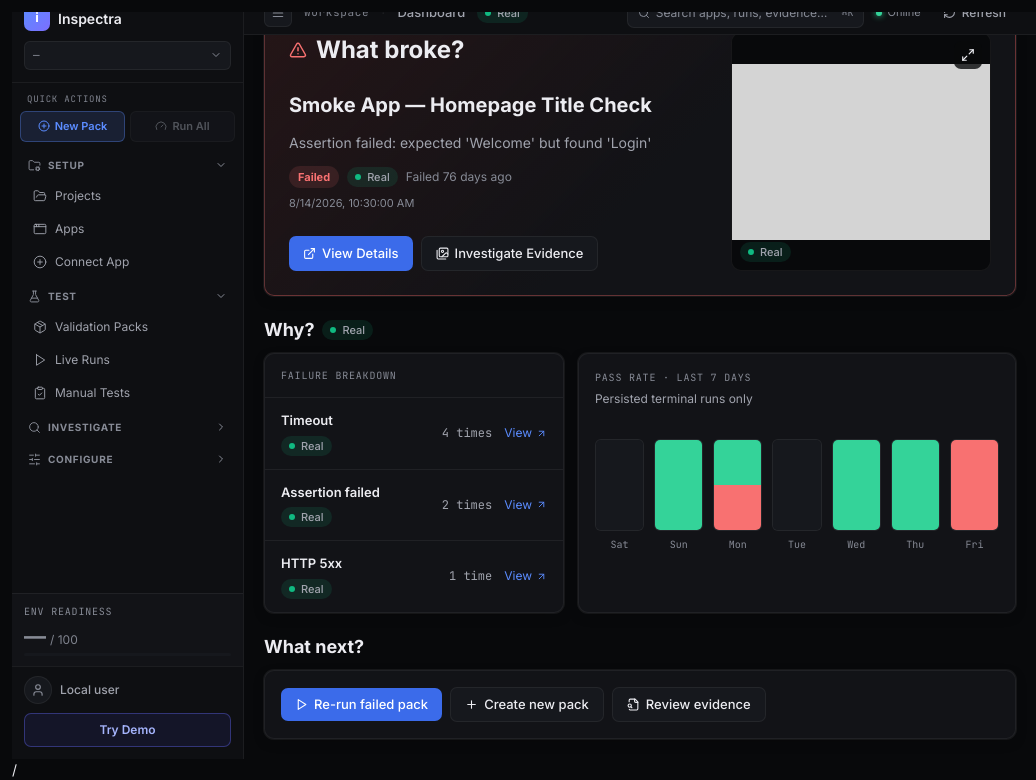
Actionable Dashboard › reruns the entire failed pack and navigates to the new run
This screenshot has width=1036, height=780.
(page scrolled)
Click the button "Re-run failed pack": (362, 704) [281, 688, 442, 721]
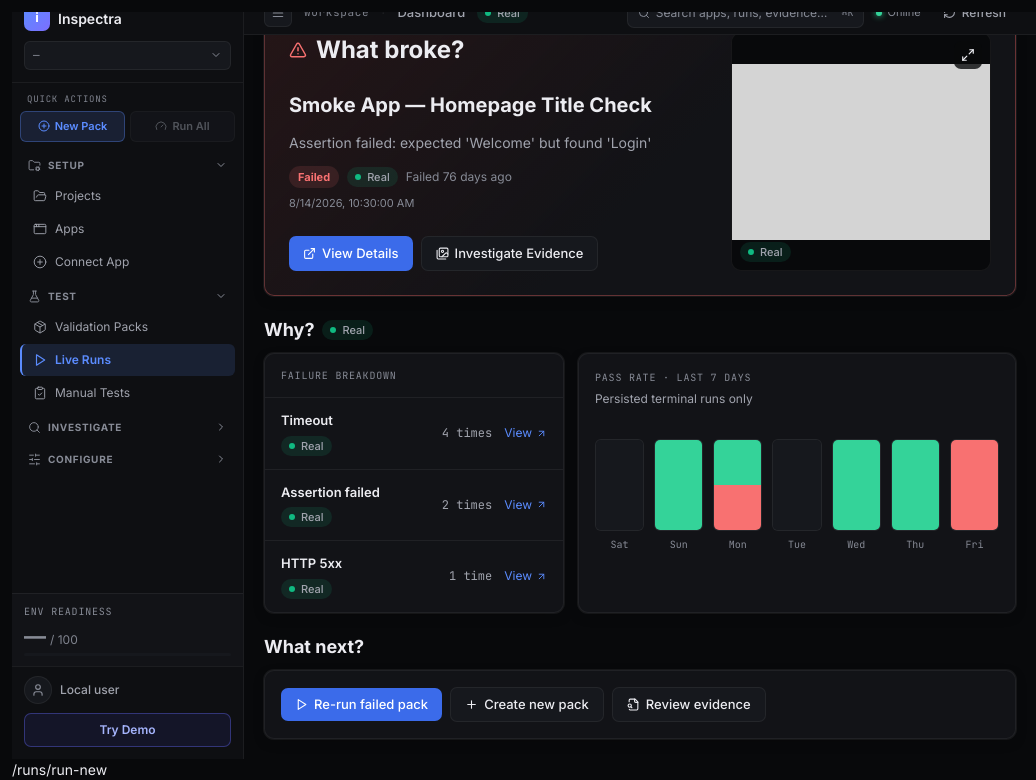
Expected: the text with test id "location" reads "/runs/run-new", [12, 761, 107, 778]
